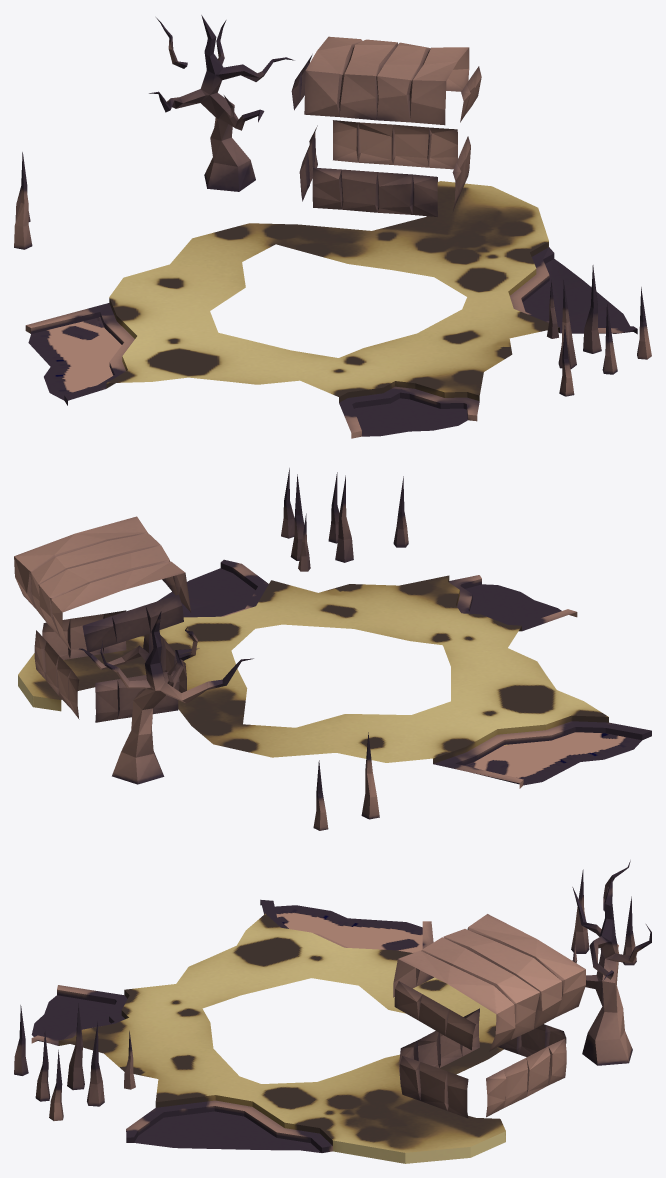
File: Ground_01.FBX
The picture shows the model from 3 angles, top to bottom: view 1: azimuth 30°, elevation 25°; view 2: azimuth 150°, elevation 25°; view 3: azimuth 270°, elevation 25°; orthographic projection. The views are drawn at different scales.
Visible parts, largest first — view 1: Ground_01; view 2: Ground_01; view 3: Ground_01.
Boxes of the visible parts, x1=… form: Ground_01: x1=14, y1=15, x2=651, y2=438; Ground_01: x1=14, y1=468, x2=651, y2=830; Ground_01: x1=14, y1=860, x2=651, y2=1163.
Bounding box in the file's own units: 19.55 × 6.35 × 20.38.
